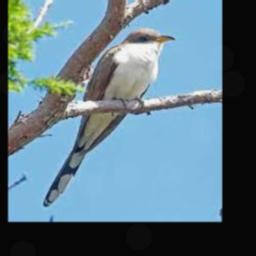Cuckoo: (42, 27, 173, 206)
